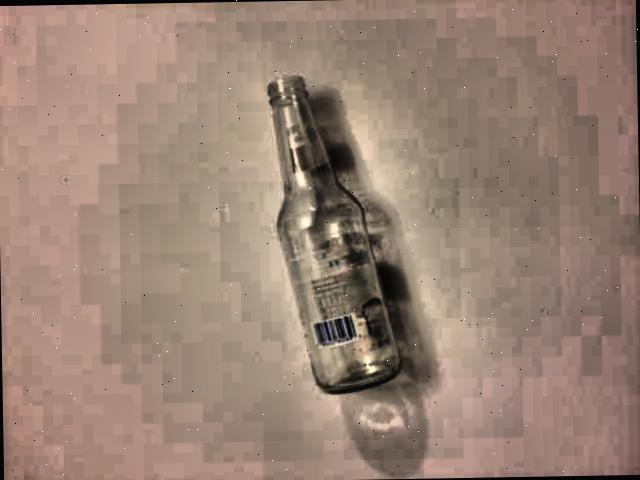Bottles: (232, 66, 432, 406)
